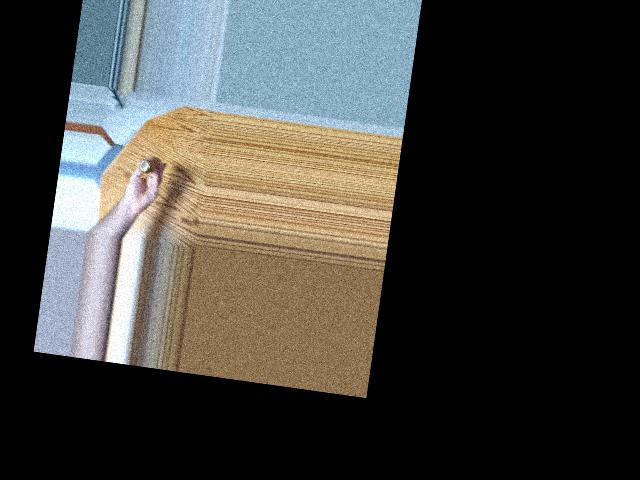sweet_potato: (132, 151, 162, 181)
